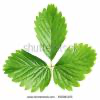Strawberry leaf: (53, 41, 98, 94), (2, 48, 52, 92), (34, 2, 68, 60)
